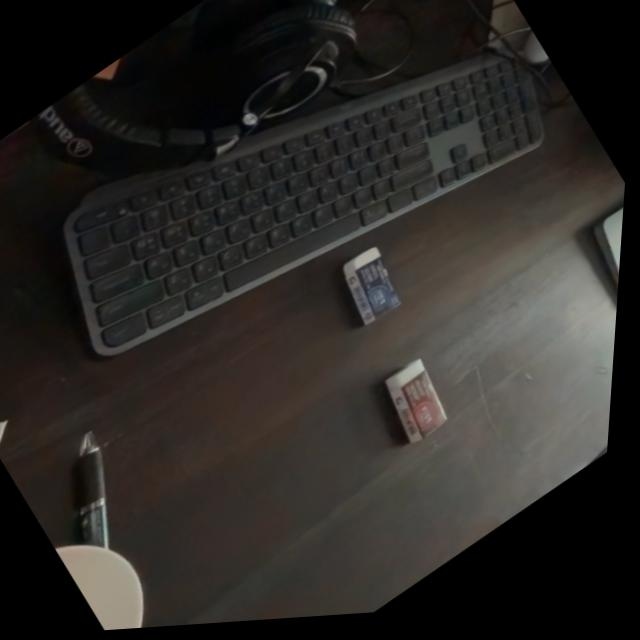blue: (318, 237, 428, 349)
red: (367, 351, 475, 466)
